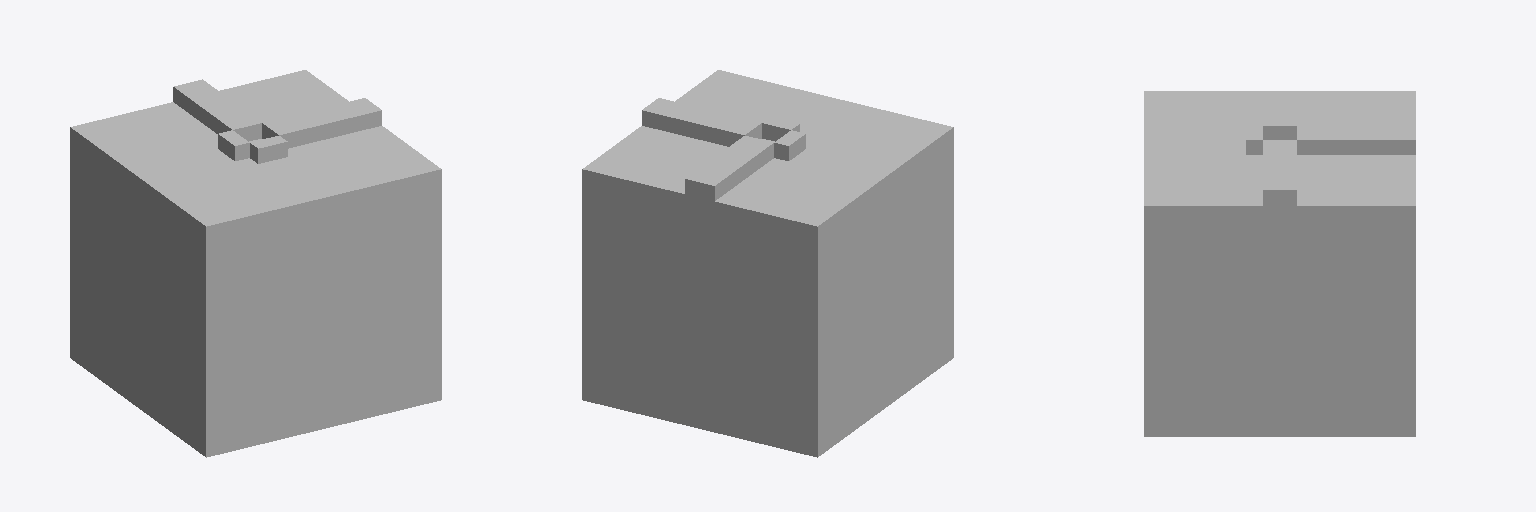
The model's file is Floor Turn Connection.obj.
The picture shows the model from 3 angles: view 1: azimuth 30°, elevation 25°; view 2: azimuth 150°, elevation 25°; view 3: azimuth 270°, elevation 25°; orthographic projection.
Parts seen in each view (by area): view 1: object 1; view 2: object 1; view 3: object 1.
Boxes of the visible parts, x1=… form: object 1: x1=70, y1=70, x2=441, y2=457; object 1: x1=582, y1=70, x2=953, y2=457; object 1: x1=1144, y1=91, x2=1415, y2=436.
Size of the model in its own units: 1.6 by 1.6 by 1.6.